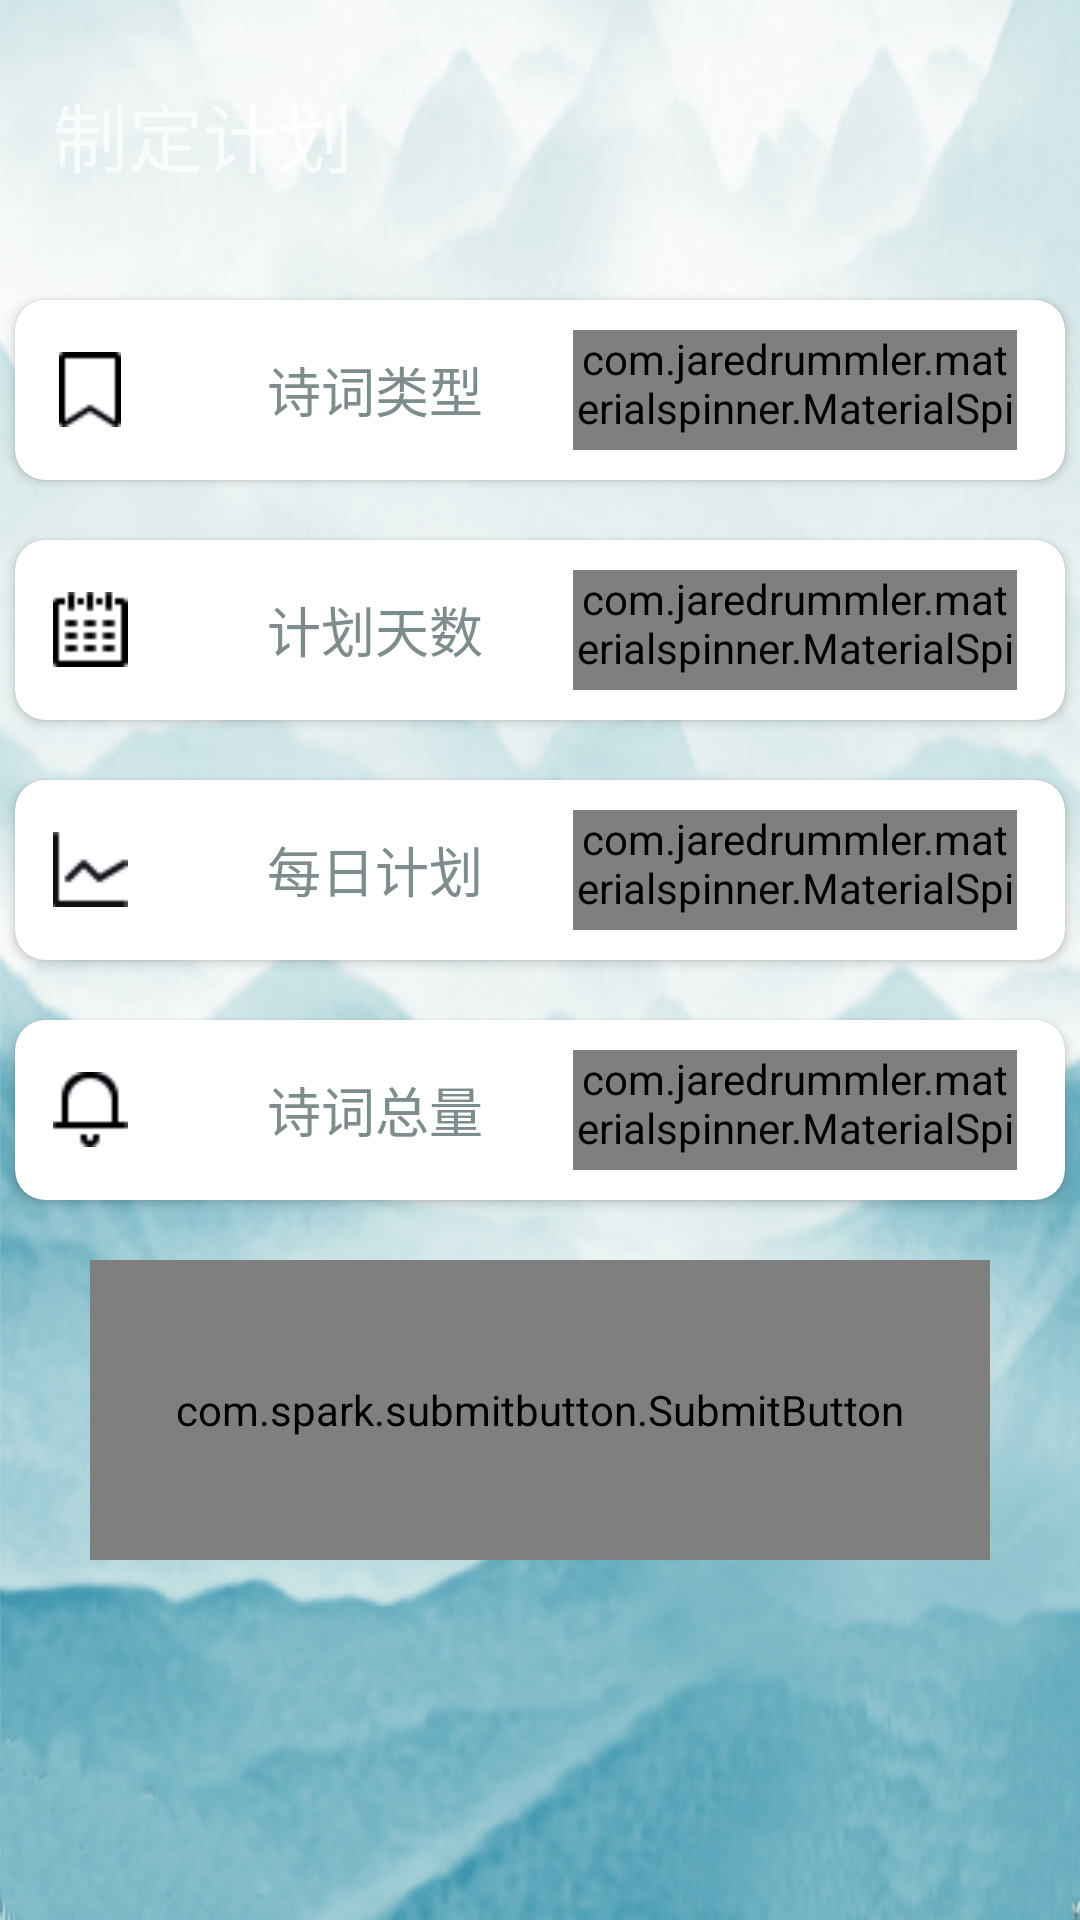

Icons on this 1080×1920 Android screen, each with the point to tap as (x=x, y=y):
day: (x=90, y=629)
